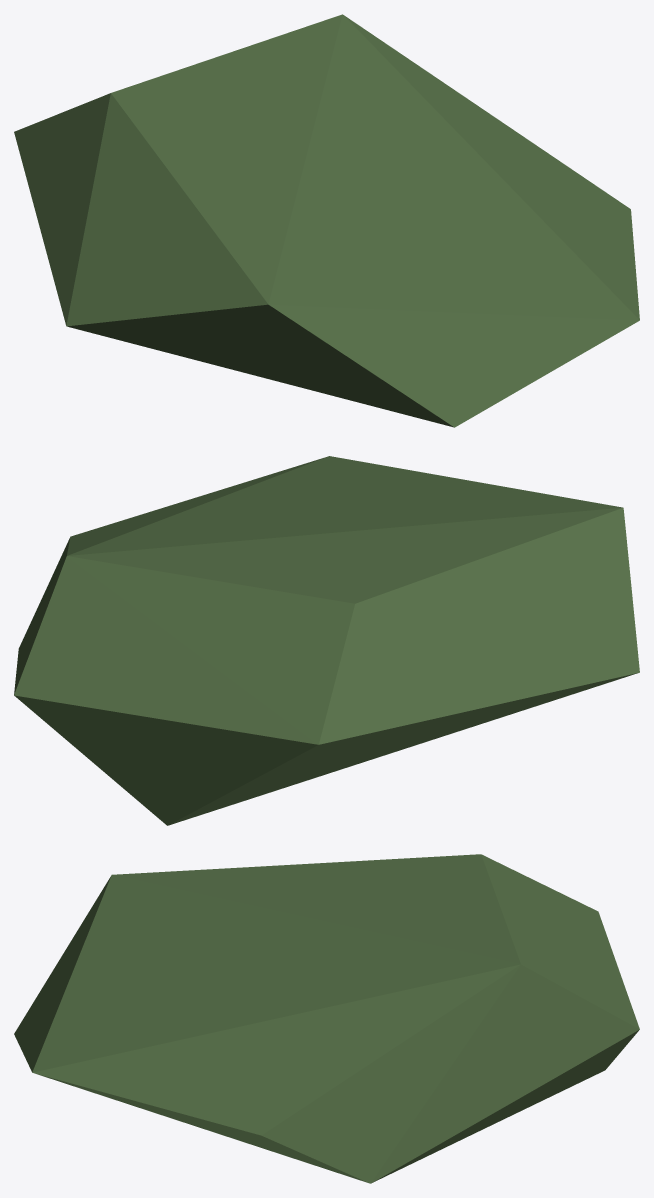
File: Plant_4.lod4.glb
3 renders of one model, top to bottom at view 1: azimuth 30°, elevation 25°; view 2: azimuth 150°, elevation 25°; view 3: azimuth 270°, elevation 25°, orthographic. The views are drawn at different scales.
Visible parts, largest first — view 1: Plant_4; view 2: Plant_4; view 3: Plant_4.
Part boxes in pixels (x1,y1,x2,y2): Plant_4: [14, 14, 639, 427]; Plant_4: [14, 456, 639, 825]; Plant_4: [14, 854, 639, 1183].
Bounding box in the file's own units: 2 × 0.8141 × 2.19.
